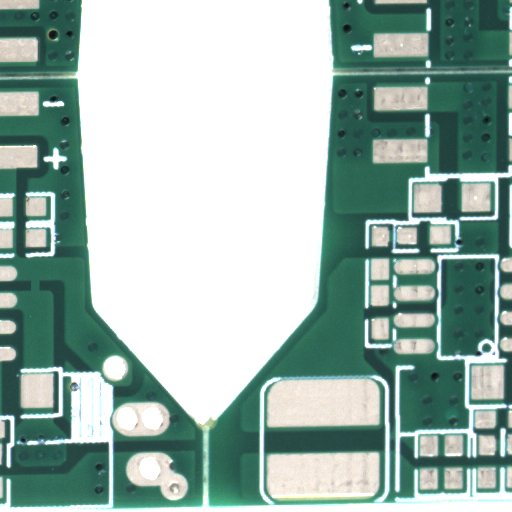Short: (35, 285, 54, 304)
